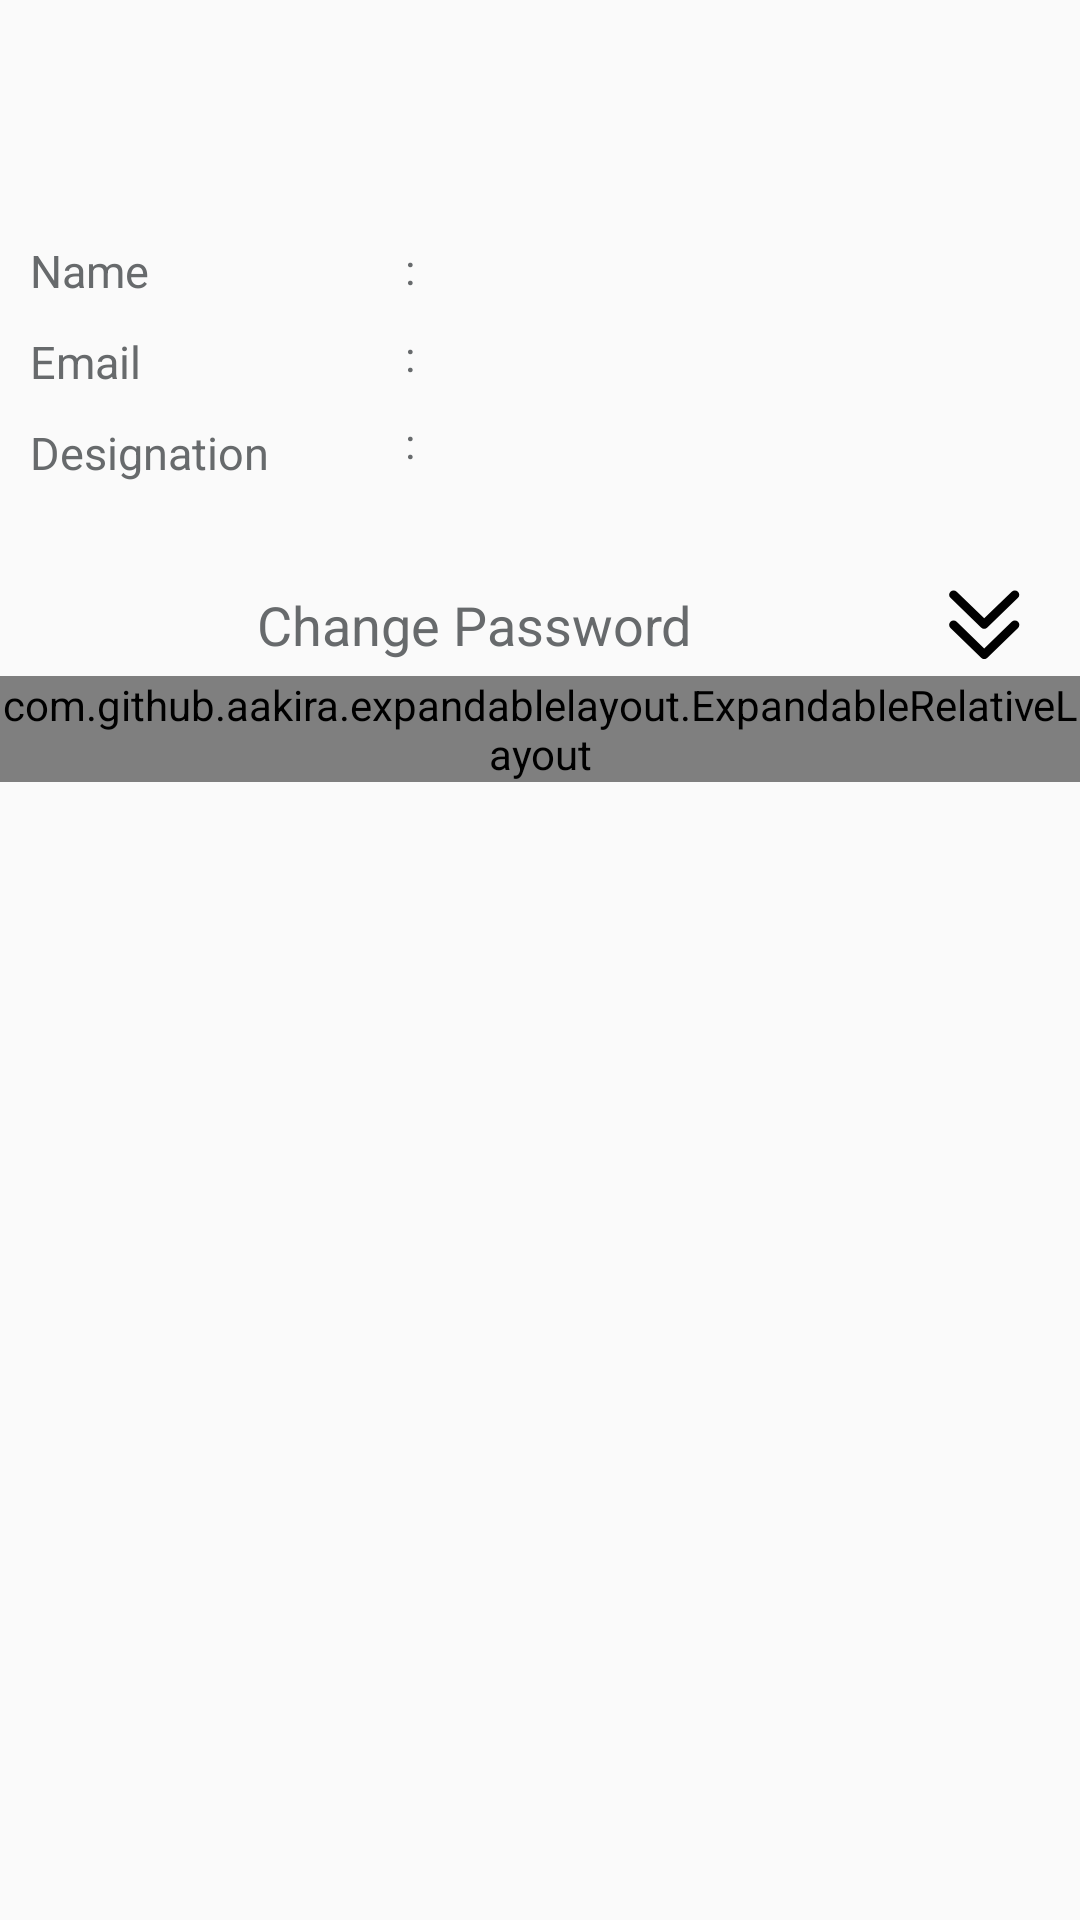

Icon bounding boxes for this 1080px×1920px phone screenshot, format (x1, y1, x2, y2):
down: (949, 590, 1020, 659)
